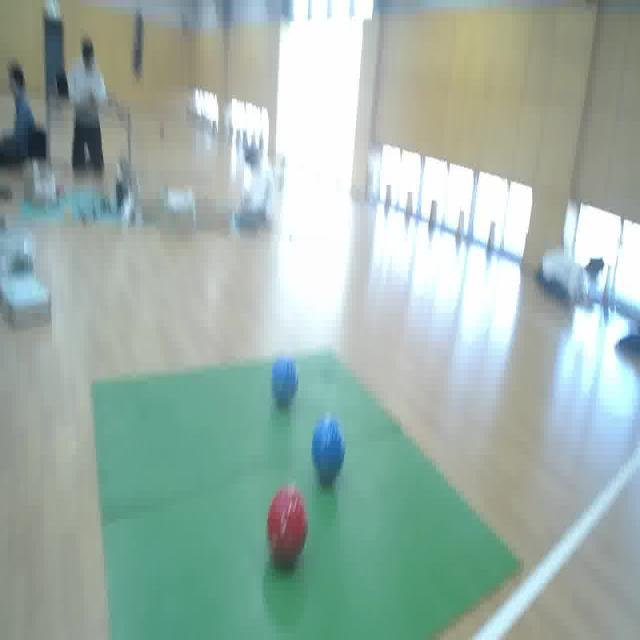blue_ball: (310, 424, 347, 484), (268, 357, 301, 410)
red_ball: (266, 485, 307, 570)
